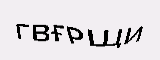В: (30, 22, 50, 43)
Г: (14, 22, 29, 42)
И: (124, 25, 145, 46)
Р: (65, 24, 84, 45)
Щ: (86, 27, 121, 49)
Ғ: (50, 22, 65, 43)
